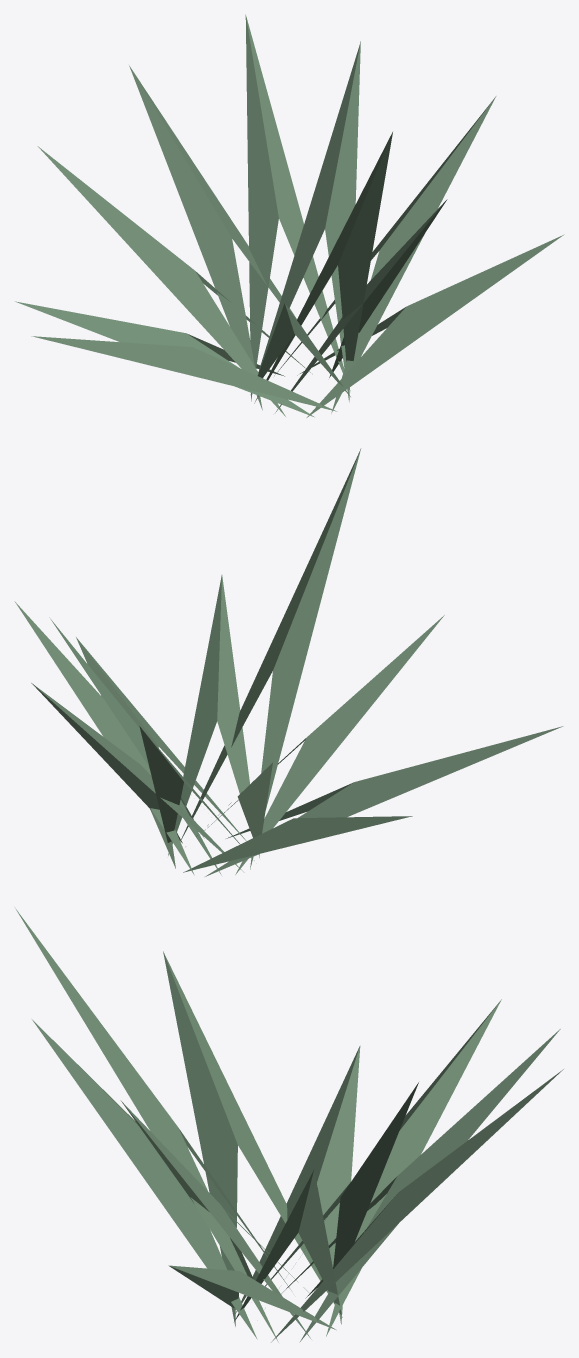
The model's file is agave.glb.
3 views of the same model, one above another, from view 1: azimuth 30°, elevation 25°; view 2: azimuth 150°, elevation 25°; view 3: azimuth 270°, elevation 25° (orthographic). The views are drawn at different scales.
Parts seen in each view (by area): view 1: agave; view 2: agave; view 3: agave.
Boxes of the visible parts, <box> form: agave: <box>15,14,564,417</box>; agave: <box>14,448,563,876</box>; agave: <box>15,908,563,1342</box>.
Size of the model in its own units: 1.09 by 0.7174 by 0.9042.
